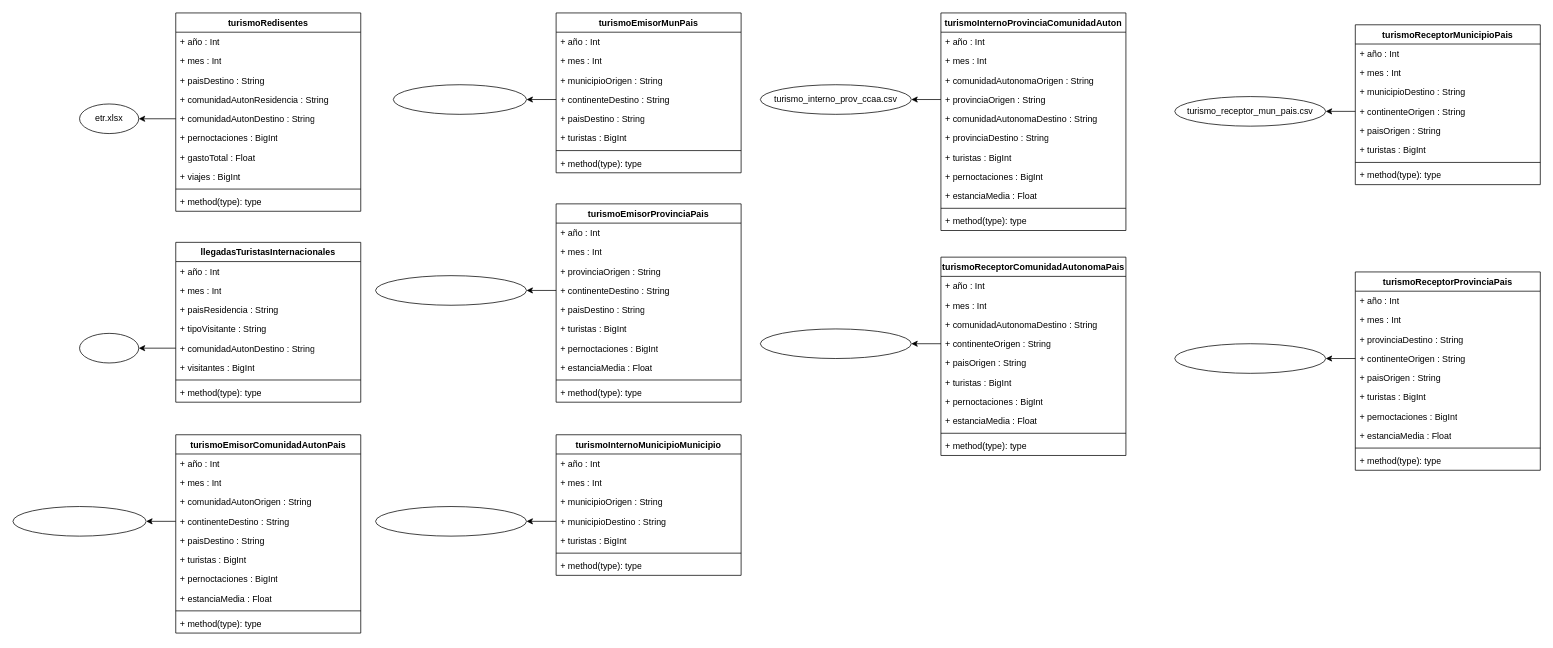
This 1553x648 diagram has some shape labels left out. Here are the shapes that lost their labels. From the top down, the centre of each, then its label:
At point (460, 99): "turismo_emisor_mun_pais.csv".
At point (451, 290): "turismo_emisor_provincia_pais.csv".
At point (109, 348): "frontur.xlsx".
At point (835, 343): "turismo_receptor_ccaa_pais .csv".
At point (1250, 358): "turismo_receptor_provincia_pais.csv".
At point (79, 521): "turismo_emisor_cca_pais.csv".
At point (451, 521): "turismo_interno_mun_mun.csv".
